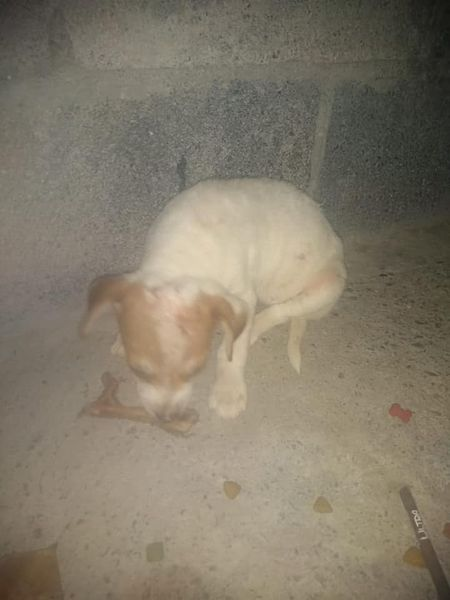dog: (71, 156, 356, 454)
